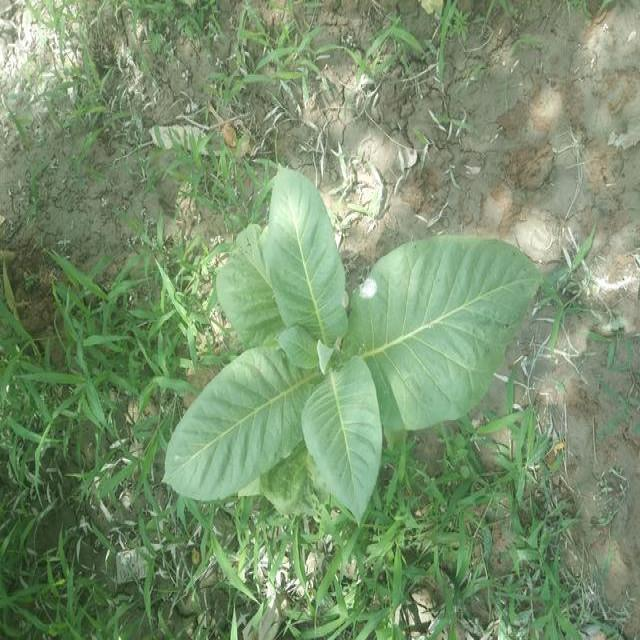crop: (162, 168, 542, 530)
